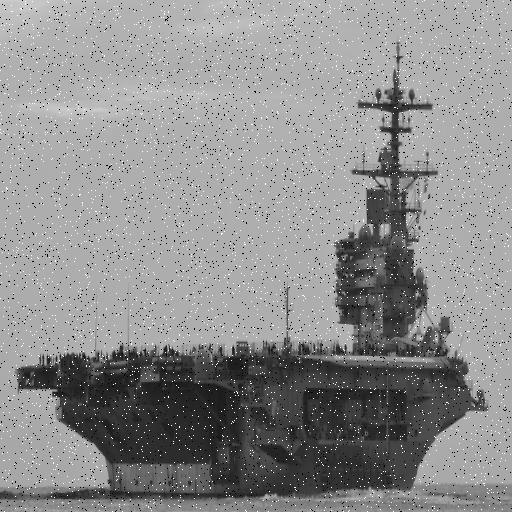Portanaves: (16, 43, 490, 505)
